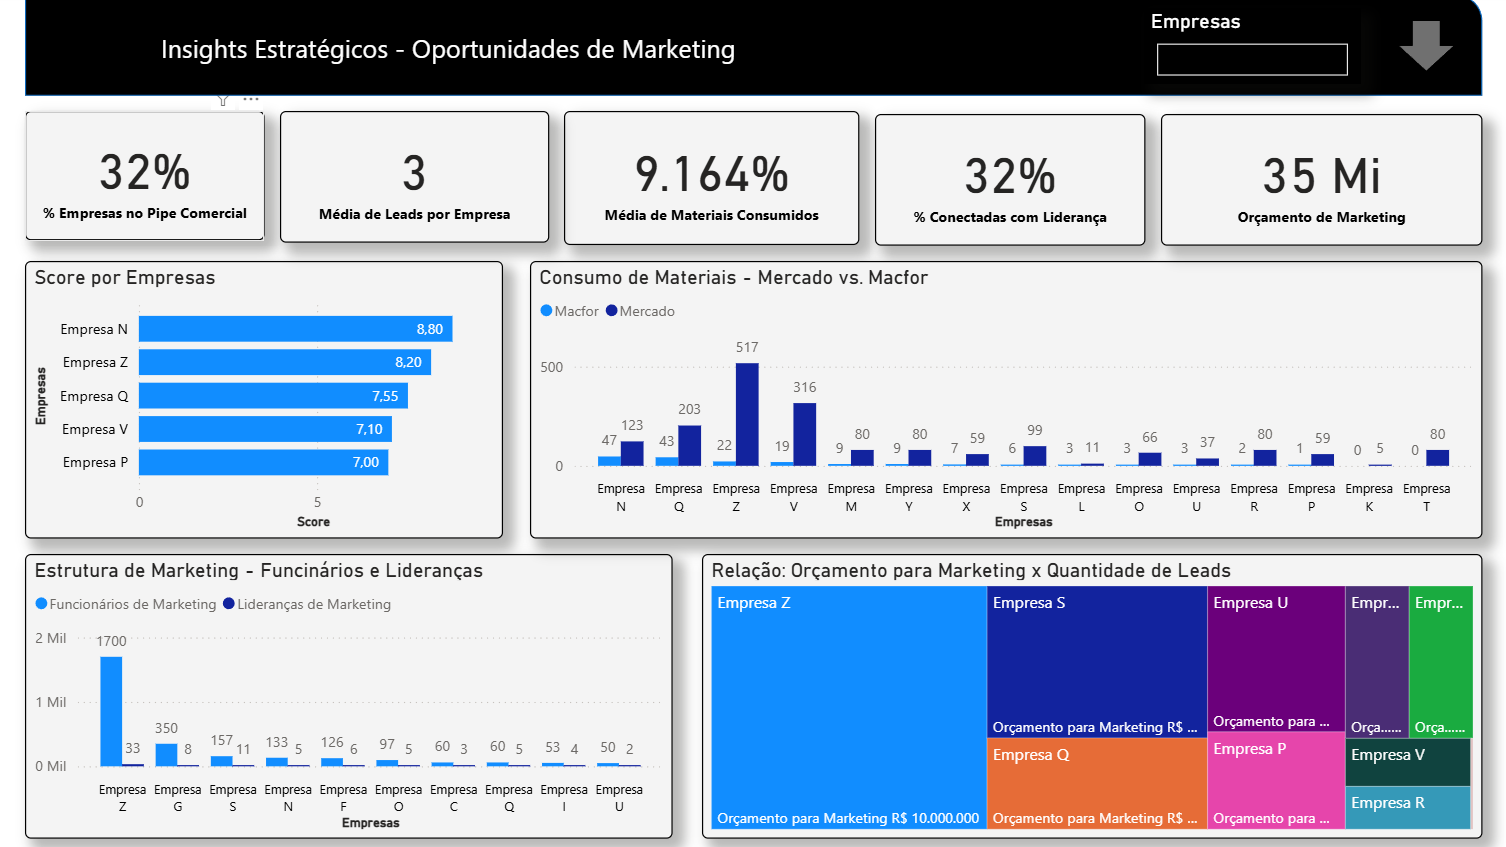

This screenshot's page, from the dashboard's own definition file:
{"tool":"powerbi","page":{"name":"Insights Estratégicos","canvas":[1280,720],"ordinal":0},"visuals":[{"type":"card","fields":{"Values":["base_dados.PercEmpresasNoPipe"]},"box":[30,98,202,109],"z":0},{"type":"barChart","fields":{"Category":["base_dados.Empresas"],"Y":["Sum(base_dados.ScoreFinal)"]},"box":[30.4,224,403,233.7],"z":1000},{"type":"card","fields":{"Values":["base_dados.Média de Materiais de Marketing consumidos"]},"box":[485,98,249,113],"z":2000},{"type":"shape","box":[30.4,0,1228.7,85.1],"z":3000},{"type":"textbox","box":[139.7,25.1,500.6,69.9],"z":4000},{"type":"image","box":[38.5,3.6,91.3,77],"z":5000},{"type":"card","fields":{"Values":["base_dados.PercConectadasLideranca"]},"box":[747,100,228,111],"z":6000},{"type":"clusteredColumnChart","title":"Estrutura de Marketing - Funcinários e Lideranças","fields":{"Y":["Sum(base_dados.Funcionários de Marketing)","Sum(base_dados.Lideranças de Marketing)"],"Category":["base_dados.Empresas"]},"box":[30.4,471,546.3,240],"z":7000},{"type":"clusteredColumnChart","title":"Consumo de Materiais - Mercado vs. Macfor","fields":{"Category":["base_dados.Empresas"],"Y":["Sum(base_dados.Materiais de marketing consumidos (Macfor))","Sum(base_dados.Materiais de marketing consumidos do mercado)"]},"box":[456.1,224,802.8,233.7],"z":8000},{"type":"card","fields":{"Values":["base_dados.MediaLeads"]},"box":[245,98,227,111],"z":9000},{"type":"treemap","title":"Relação: Orçamento para Marketing x Quantidade de Leads","fields":{"Values":["Sum(base_dados.Orçamento para Marketing)","Sum(base_dados.Quantos leads dessa empresa temos?)"],"Group":["base_dados.Empresas"]},"box":[601,471,658,240],"z":10000},{"type":"slicer","title":"Empresas","fields":{"Values":["base_dados.Empresas"]},"box":[974,11,183,64],"z":11000},{"type":"card","fields":{"Values":["Sum(base_dados.Orçamento para Marketing)"]},"box":[988,100,271,111],"z":12000},{"type":"shape","box":[1189,22,46,42],"z":13000}]}

Visuals, with their boxes in screenshot pixels (x1, y1, x2, y2), scaled from the page's 1280x720 canvas onto the 1506x847 screenshot:
card - base_dados.PercEmpresasNoPipe: select_region(35, 115, 273, 244)
barChart - base_dados.Empresas x Sum(base_dados.ScoreFinal): select_region(36, 264, 510, 538)
card - base_dados.Média de Materiais de Marketing consumidos: select_region(571, 115, 864, 248)
shape: select_region(36, 0, 1481, 100)
textbox: select_region(164, 30, 753, 112)
image: select_region(45, 4, 153, 95)
card - base_dados.PercConectadasLideranca: select_region(879, 118, 1147, 248)
"Estrutura de Marketing - Funcinários e Lideranças" clusteredColumnChart: select_region(36, 554, 679, 836)
"Consumo de Materiais - Mercado vs. Macfor" clusteredColumnChart: select_region(537, 264, 1481, 538)
card - base_dados.MediaLeads: select_region(288, 115, 555, 246)
"Relação: Orçamento para Marketing x Quantidade de Leads" treemap: select_region(707, 554, 1481, 836)
"Empresas" slicer: select_region(1146, 13, 1361, 88)
card - Sum(base_dados.Orçamento para Marketing): select_region(1162, 118, 1481, 248)
shape: select_region(1399, 26, 1453, 75)
